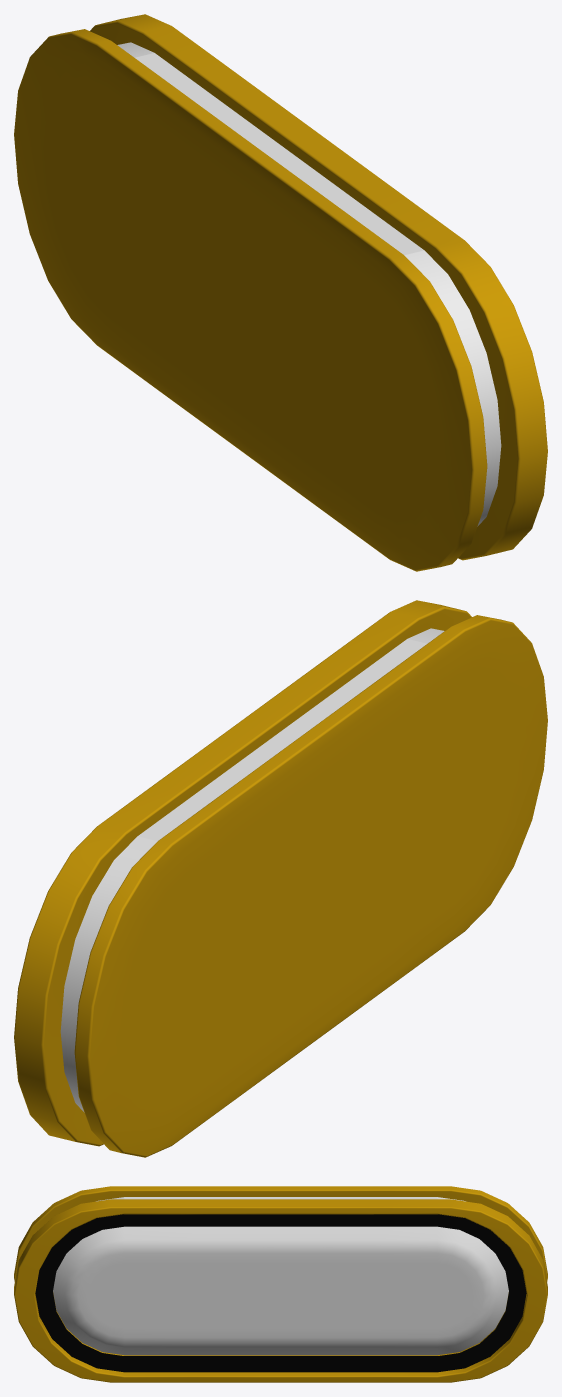
Rendered from name_sign_1.fbx.
The picture shows the model from 3 angles, top to bottom: view 1: azimuth 30°, elevation 25°; view 2: azimuth 150°, elevation 25°; view 3: azimuth 270°, elevation 25°; orthographic projection. The views are drawn at different scales.
Visible parts, largest first — view 1: pCylinder6; view 2: pCylinder6; view 3: pCylinder6.
Part boxes in pixels (x1,y1,x2,y2): pCylinder6: (14,14,547,571); pCylinder6: (14,600,547,1157); pCylinder6: (14,1186,547,1382).
Bounding box in the file's own units: 0.5851 × 2.17 × 5.98.
